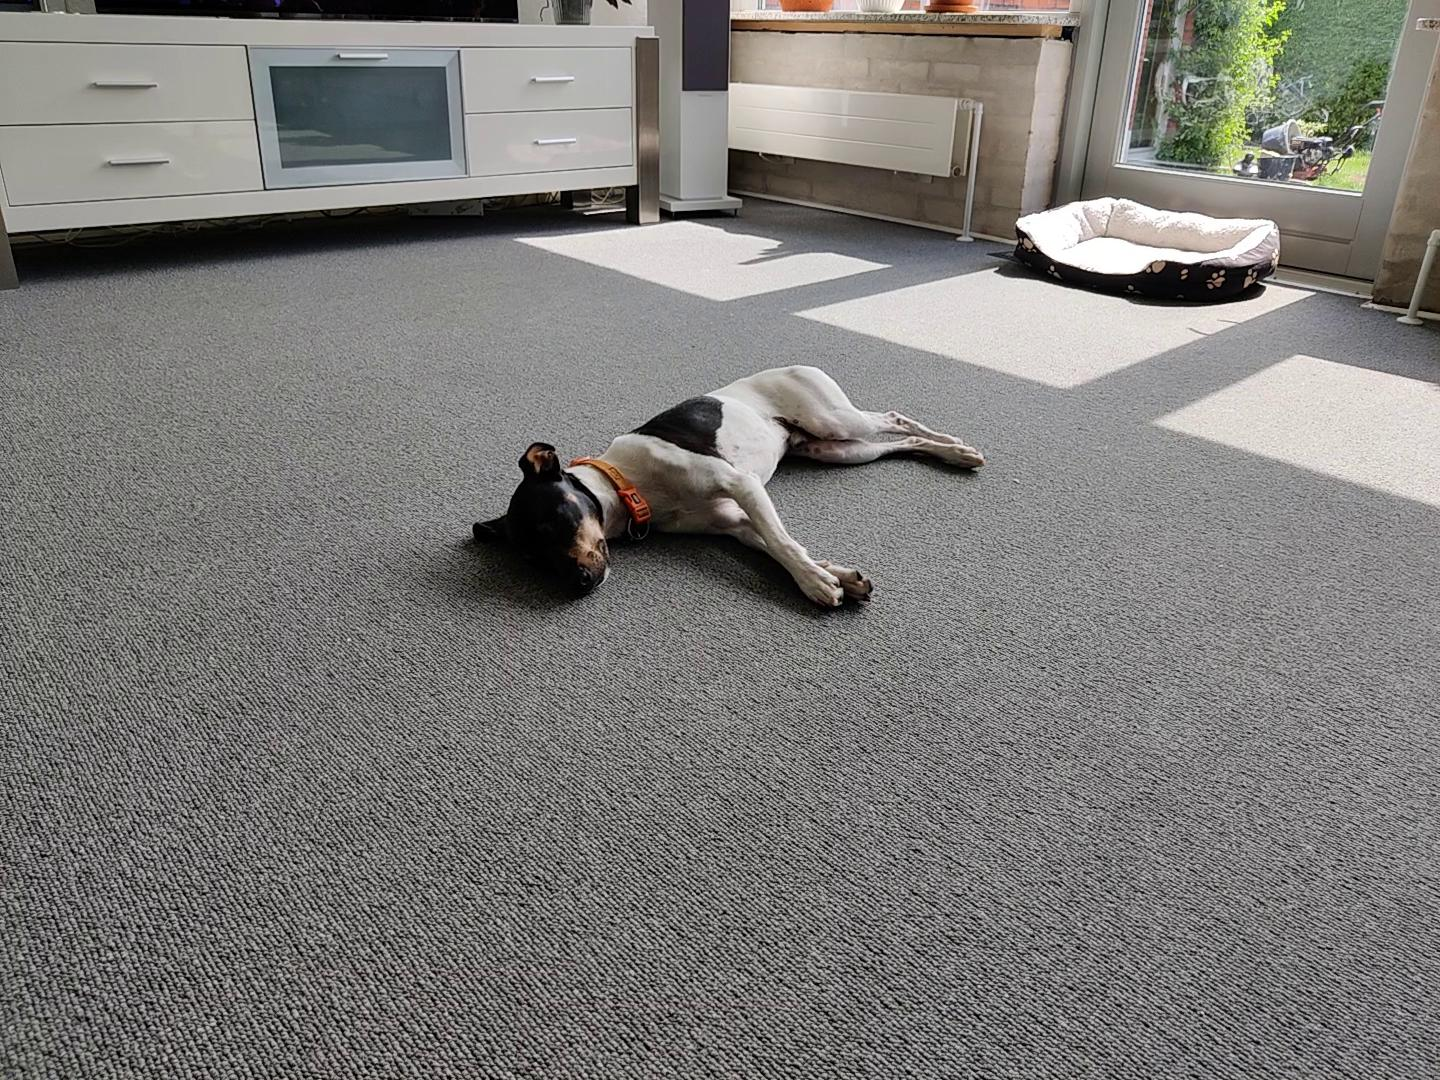Dog: (435, 344, 1003, 640)
